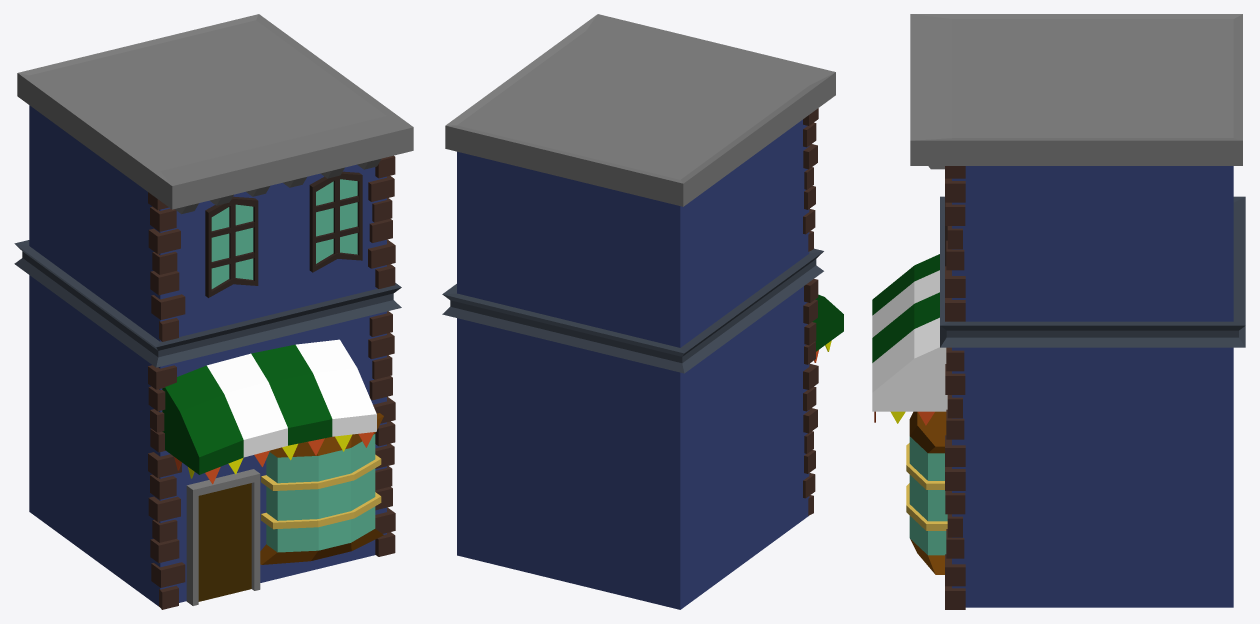
The model's file is PredioGenerico1AzulLOD0.fbx.
3 views of the same model, side by side, from view 1: azimuth 30°, elevation 25°; view 2: azimuth 150°, elevation 25°; view 3: azimuth 270°, elevation 25° (orthographic). The views are drawn at different scales.
Parts seen in each view (by area): view 1: LojaGenerica1LOD0, ToldoLOD0, JanelaLOD0; view 2: LojaGenerica1LOD0, ToldoLOD0; view 3: LojaGenerica1LOD0, ToldoLOD0, JanelaLOD0.
Part boxes in pixels (x1,y1,x2,y2): LojaGenerica1LOD0: (14,14,413,609); ToldoLOD0: (162,339,376,474); JanelaLOD0: (260,413,383,564); LojaGenerica1LOD0: (442,14,835,609); ToldoLOD0: (812,294,843,351); LojaGenerica1LOD0: (874,14,1245,609); ToldoLOD0: (872,254,947,411); JanelaLOD0: (906,411,947,574).
Bounding box in the file's own units: 411 × 699 × 502.
1 material, 1 textured.
